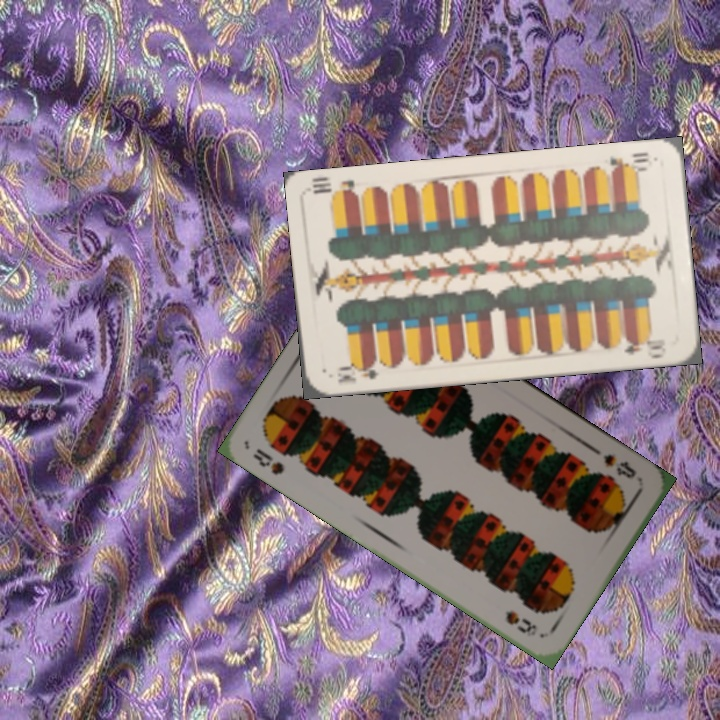E10: (334, 357, 385, 386), (605, 148, 651, 177)
S8: (248, 444, 287, 478), (599, 450, 639, 482)
